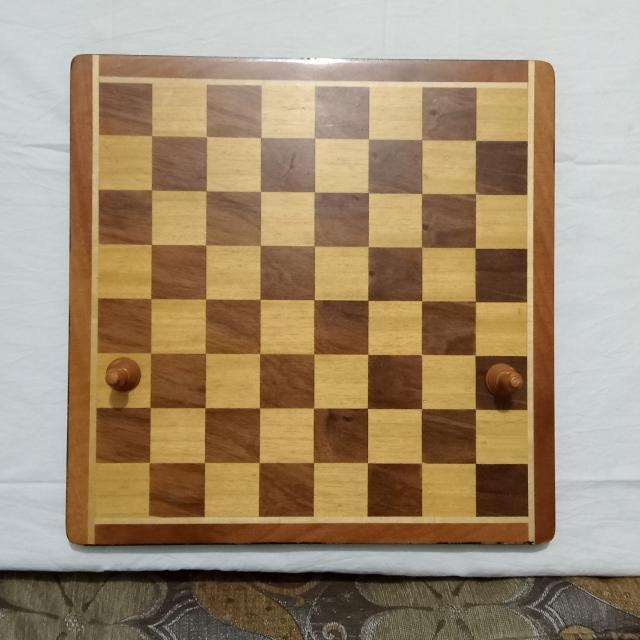white-pawn: (483, 361, 524, 399), (105, 354, 143, 394)
